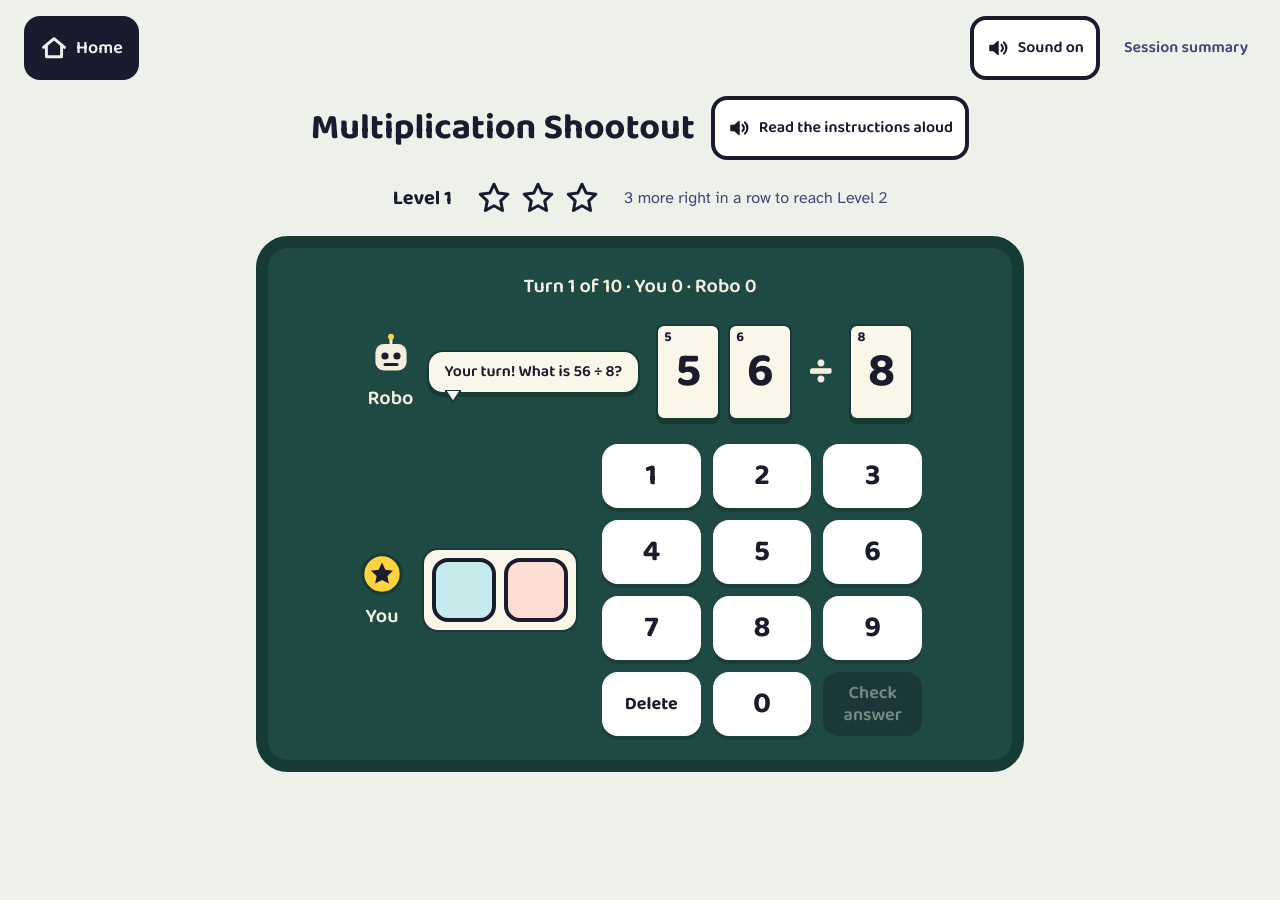
Scenario: a one-digit answer can be checked
This screenshot has width=1280, height=900.
Click the button "7" at (651,628), box [602,596,701,660]
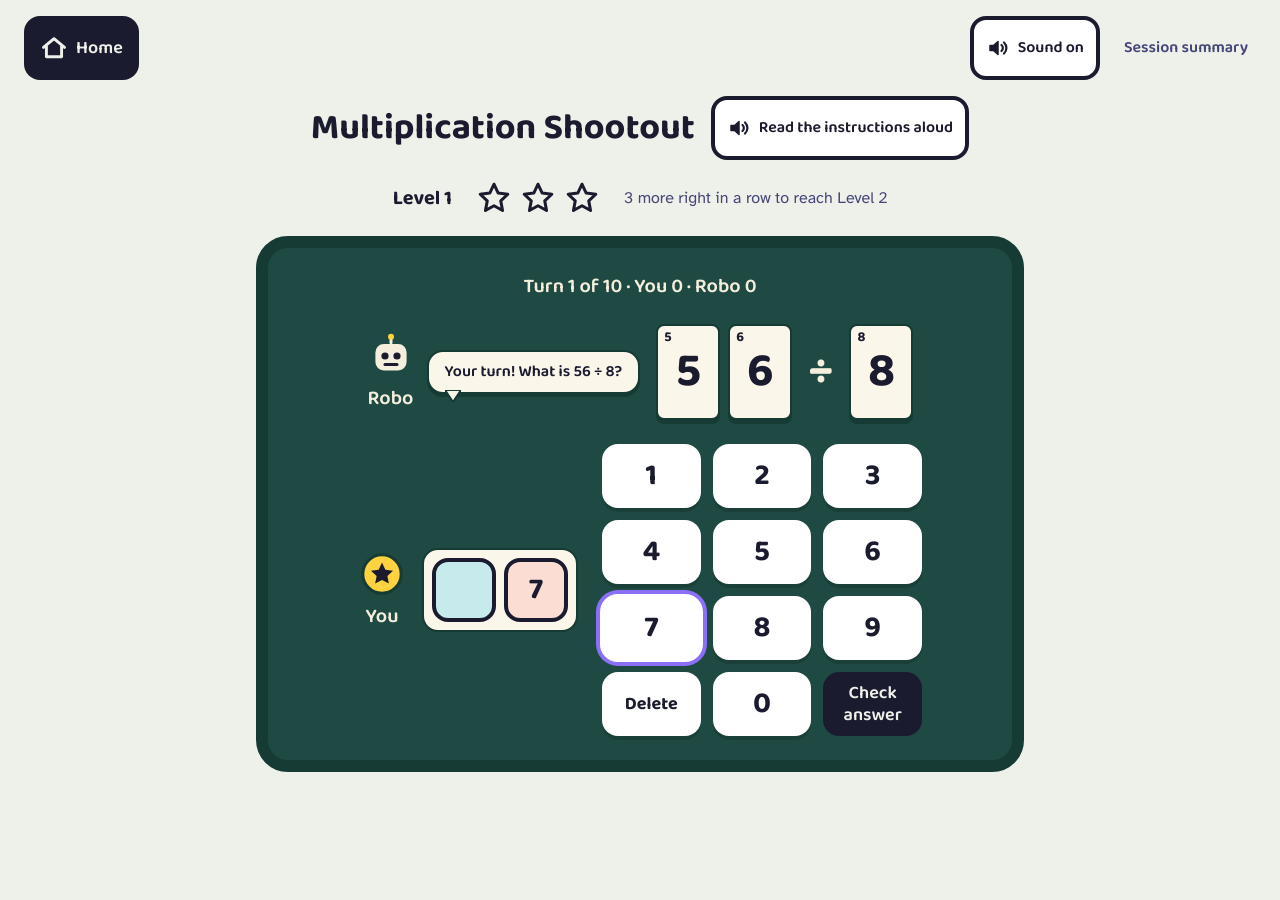
Click the button "Check answer" at (873,704), box [823,672,922,736]
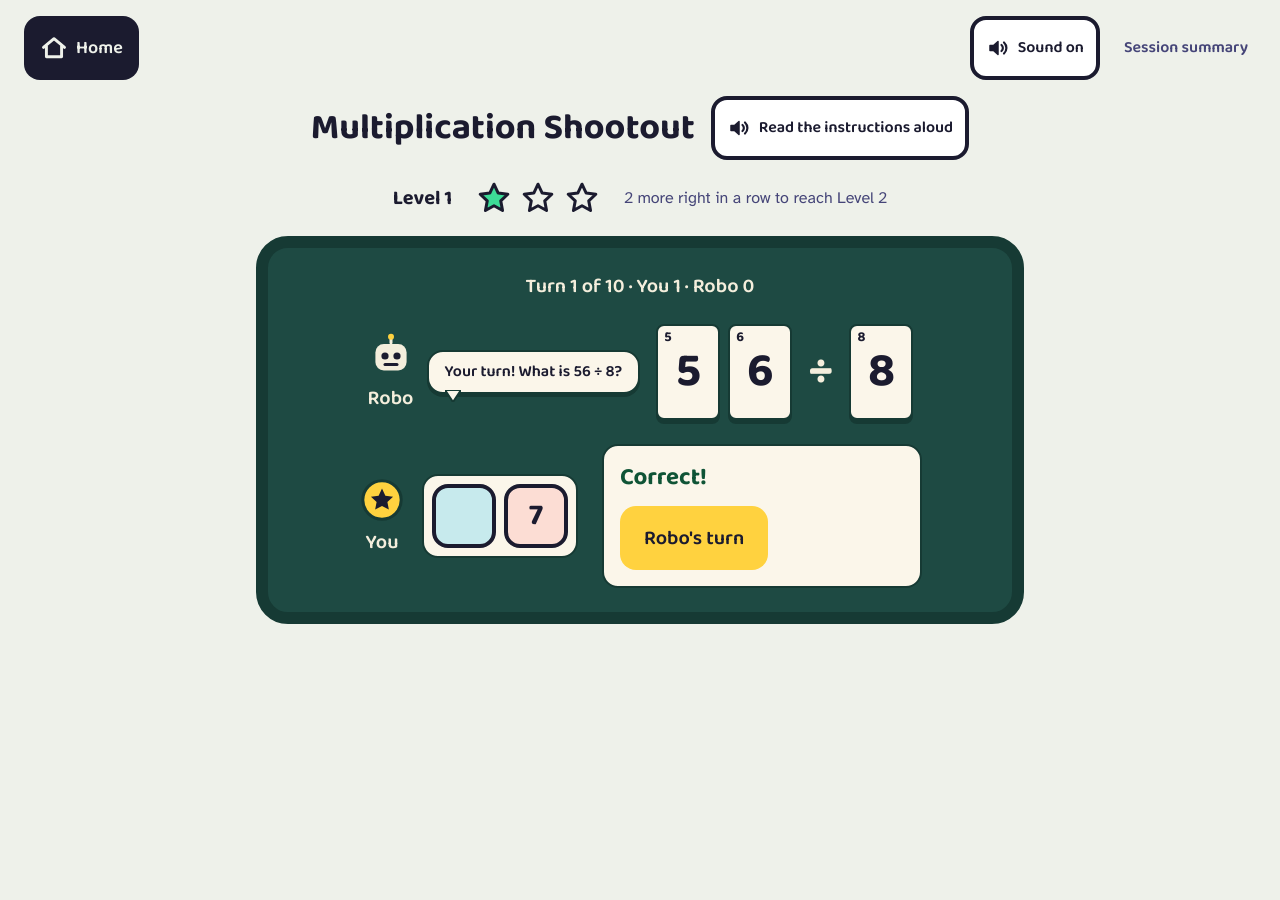
Expected: the text "Correct!" is shown, [620,462,707,494]
